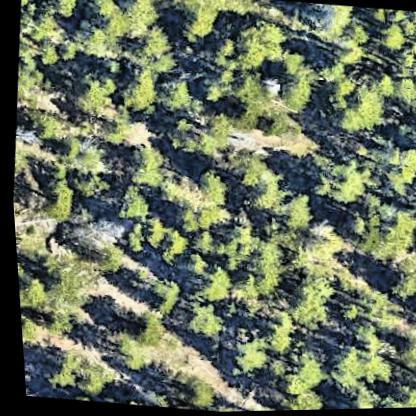tree-top: (49, 239, 130, 304), (345, 196, 416, 267), (326, 75, 393, 140), (322, 336, 392, 395), (308, 155, 375, 216), (227, 14, 292, 76), (14, 274, 69, 343), (270, 344, 329, 407), (228, 241, 284, 299), (43, 350, 118, 393), (218, 326, 272, 382), (68, 65, 123, 119), (119, 141, 171, 196), (269, 64, 320, 117), (168, 114, 228, 158), (273, 229, 331, 273), (114, 66, 163, 115), (281, 270, 331, 318), (173, 197, 222, 244), (130, 29, 184, 71), (178, 298, 225, 345), (377, 248, 416, 304), (59, 215, 116, 253), (33, 173, 77, 222), (153, 71, 199, 117), (333, 282, 378, 329), (85, 0, 135, 42), (220, 85, 265, 131), (304, 3, 352, 46), (107, 181, 154, 223), (378, 144, 416, 194), (167, 0, 215, 39), (167, 371, 213, 411), (275, 188, 318, 230), (141, 275, 183, 318), (213, 218, 256, 259), (371, 17, 412, 59), (12, 234, 54, 275), (317, 41, 356, 85), (192, 262, 231, 303), (328, 383, 381, 411), (65, 166, 106, 202), (101, 328, 139, 366), (128, 213, 167, 250), (124, 312, 160, 352), (46, 0, 97, 28), (126, 0, 164, 36), (372, 380, 416, 410), (161, 175, 198, 210), (27, 108, 65, 142), (191, 169, 225, 206), (243, 182, 280, 216), (226, 151, 263, 184), (251, 110, 289, 142), (50, 130, 83, 166), (150, 229, 184, 262), (259, 307, 292, 339), (9, 139, 36, 177), (30, 14, 61, 47), (389, 331, 416, 367), (181, 228, 211, 260), (396, 57, 416, 98), (198, 78, 226, 106), (344, 21, 372, 49), (17, 54, 39, 85), (34, 38, 57, 64), (406, 98, 416, 146), (20, 0, 39, 8)
